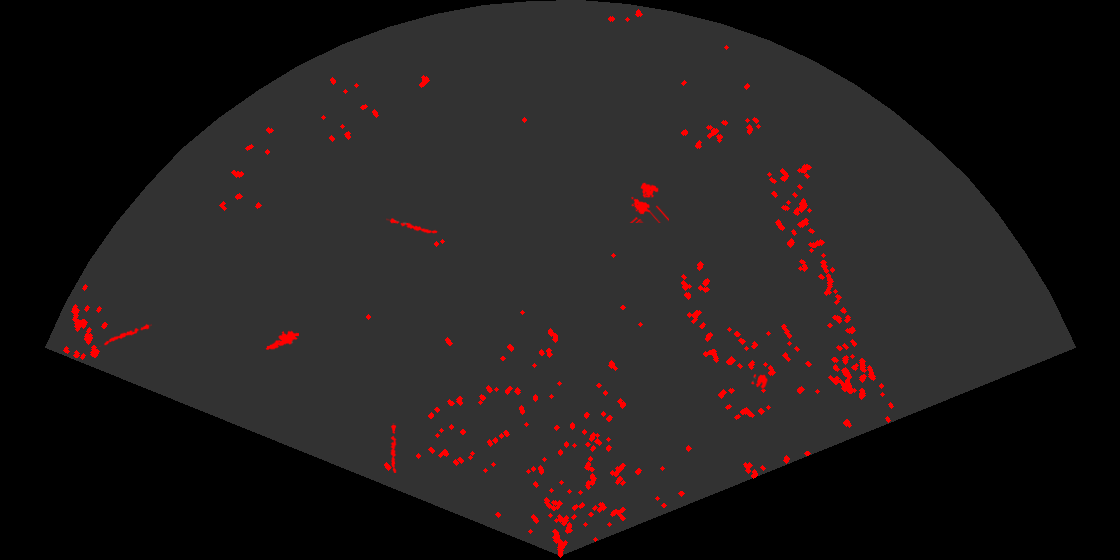ball: (750, 372, 770, 390)
cage: (628, 181, 669, 223)
chain: (99, 322, 152, 348), (386, 217, 439, 235), (389, 423, 398, 473)
frogman: (264, 329, 299, 351)
